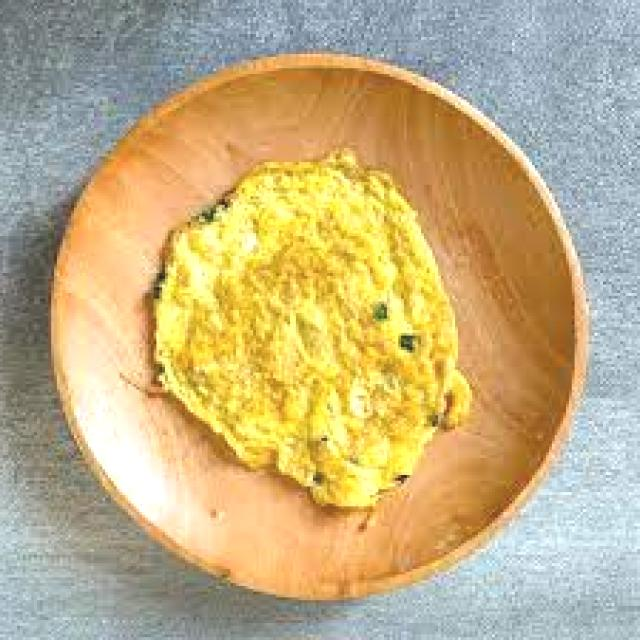telur dadar: (151, 148, 469, 506)
